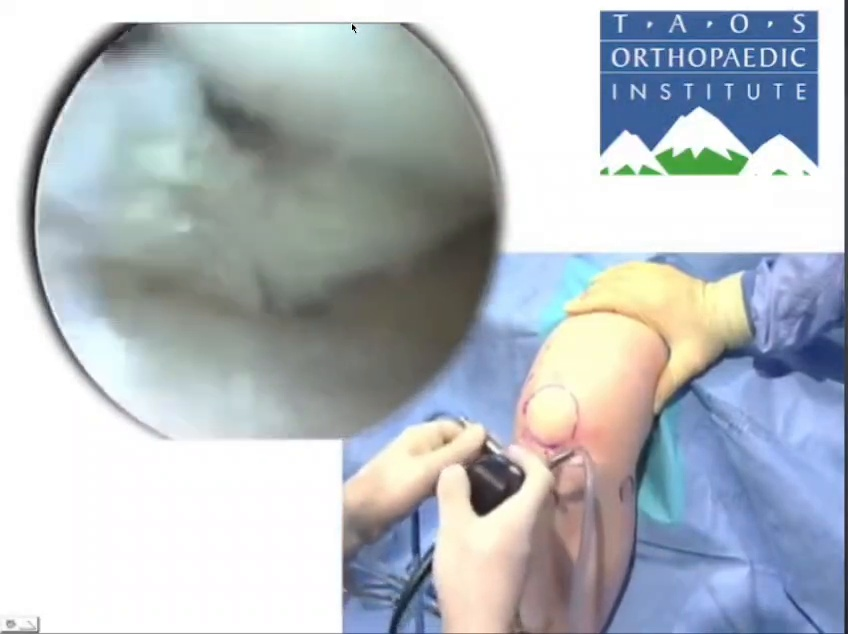arthroscope: (767, 373, 848, 634)
